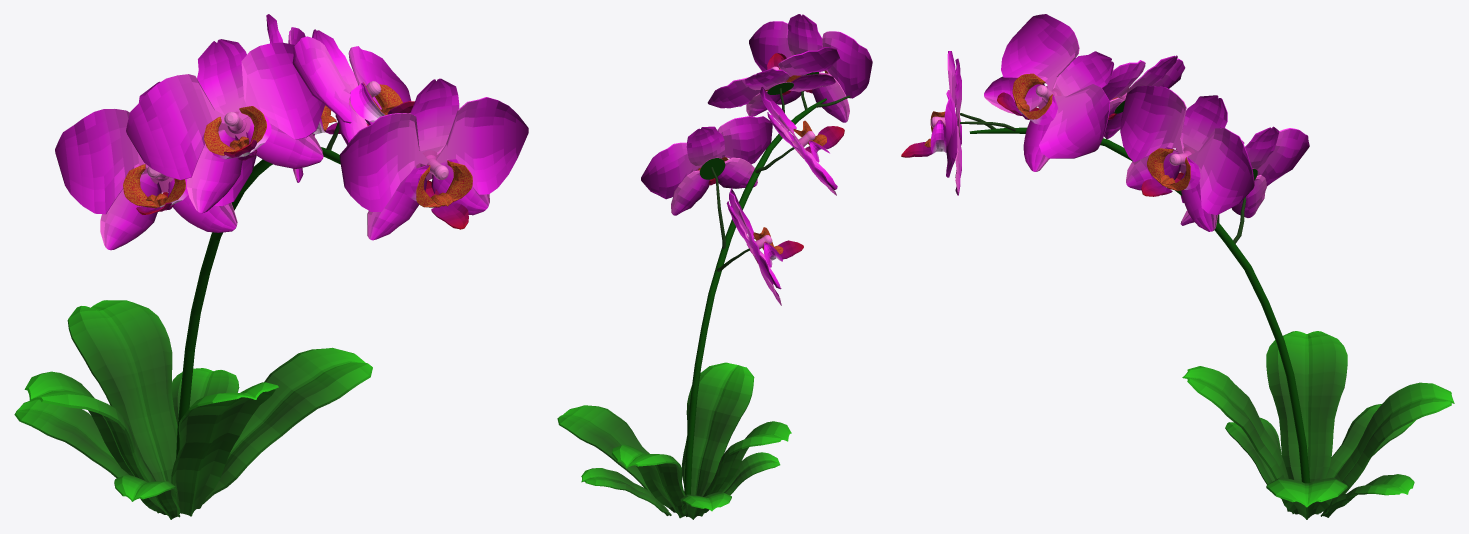
Rendered from Orquidea.glb.
3 renders of one model, left to right at view 1: azimuth 30°, elevation 25°; view 2: azimuth 150°, elevation 25°; view 3: azimuth 270°, elevation 25°, orthographic. The views are drawn at different scales.
Parts seen in each view (by area): view 1: Cube.050, Cube.051, Cube.054, Cube.021, Cube.041, Cube.011, Cube.010, Cube.020, Cube.052, Cube.056, Cube.022, Cube.001 (+21 smaller); view 2: Cube.054, Cube.051, Cylinder.001, Cube.050, Cube.011, Cube.031, Cube.030, Cube.052, Cube.010, Cube.053, Cube.001, Cube.032 (+16 smaller); view 3: Cube.052, Cube.031, Cube.050, Cube.001, Cube.030, Cube, Cube.054, Cylinder.001, Cube.051, Cube.032, Cube.002, Cube.041 (+12 smaller).
Part boxes in pixels (x1,y1,x2,y2): Cube.050: (67, 300, 177, 482); Cube.051: (202, 347, 372, 504); Cube.054: (171, 382, 278, 516); Cube.021: (126, 74, 225, 180); Cube.041: (55, 109, 148, 214); Cube.011: (339, 113, 428, 211); Cube.010: (436, 97, 528, 194); Cube.020: (238, 42, 324, 139); Cube.052: (24, 371, 159, 513); Cube.056: (14, 399, 128, 478); Cube.022: (197, 39, 246, 115); Cube.001: (292, 36, 352, 123); Cube.054: (682, 362, 754, 496); Cube.051: (557, 405, 650, 491); Cylinder.001: (684, 98, 826, 494); Cube.050: (612, 444, 688, 518); Cube.011: (822, 31, 872, 98); Cube.031: (717, 116, 772, 164); Cube.030: (641, 142, 700, 199); Cube.052: (700, 421, 791, 516); Cube.010: (749, 21, 792, 71); Cube.053: (581, 468, 671, 515); Cube.001: (778, 47, 839, 77); Cube.032: (686, 126, 724, 166); Cube.052: (1266, 331, 1347, 482); Cube.031: (1120, 86, 1186, 162); Cube.050: (1319, 382, 1454, 513); Cube.001: (1001, 14, 1079, 91); Cube.030: (1188, 128, 1254, 214); Cube: (1039, 84, 1109, 158); Cube.054: (1182, 366, 1294, 513); Cylinder.001: (969, 127, 1310, 483); Cube.051: (1266, 477, 1347, 519); Cube.032: (1181, 95, 1227, 152); Cube.002: (1053, 51, 1113, 95); Cube.041: (1257, 128, 1309, 186).
Bounding box in the file's own units: 0.4817 × 0.7999 × 0.8355.
Materials: 11 (9 with a texture image).
